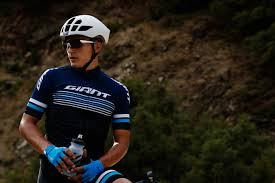helmet: (59, 13, 112, 67)
